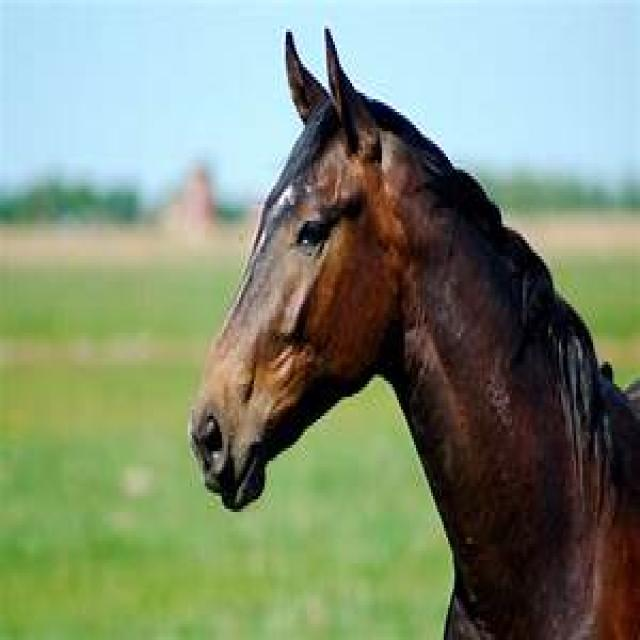horse: (185, 22, 638, 637)
